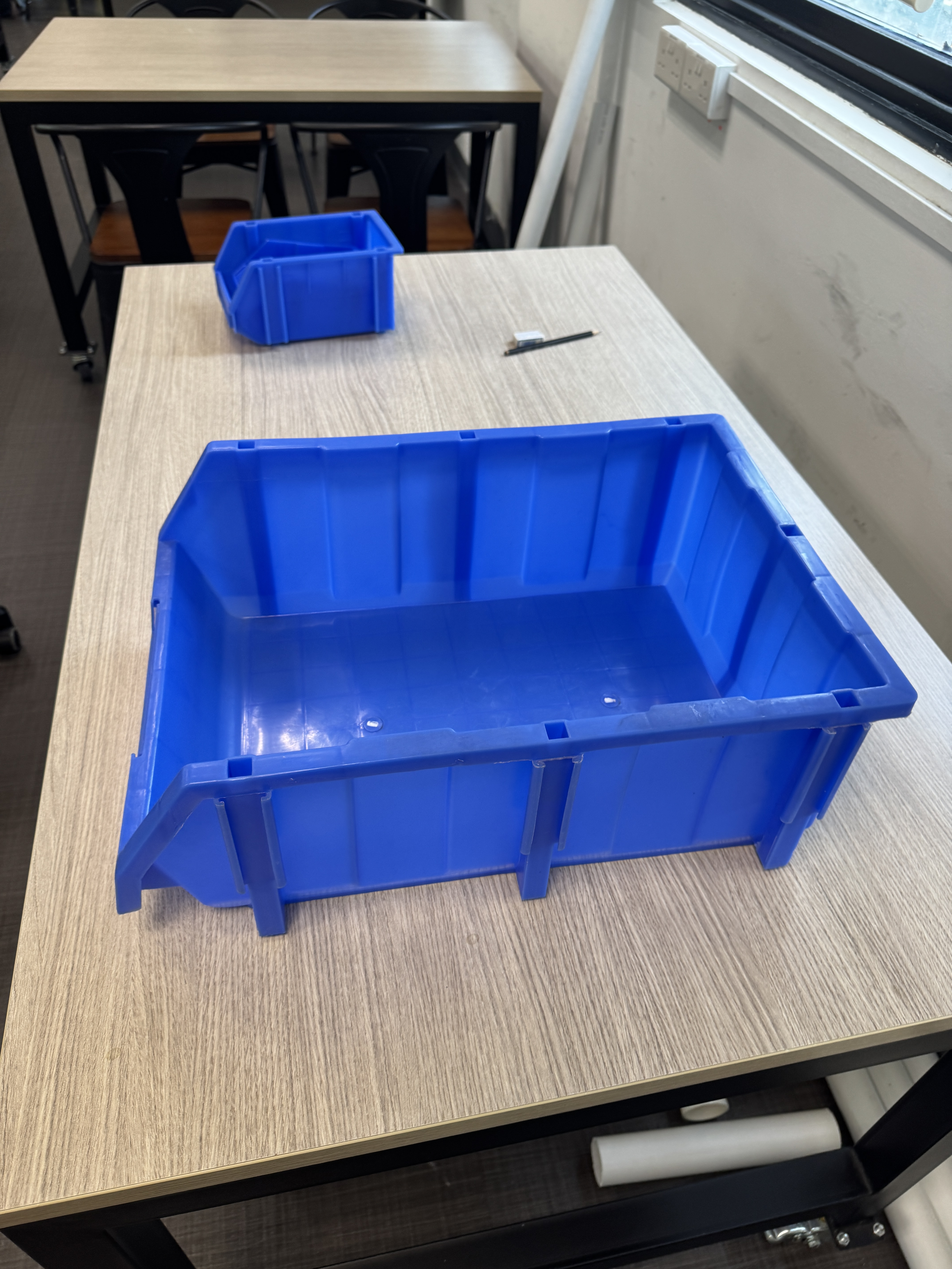Bin Boundary: (120, 416, 890, 835)
